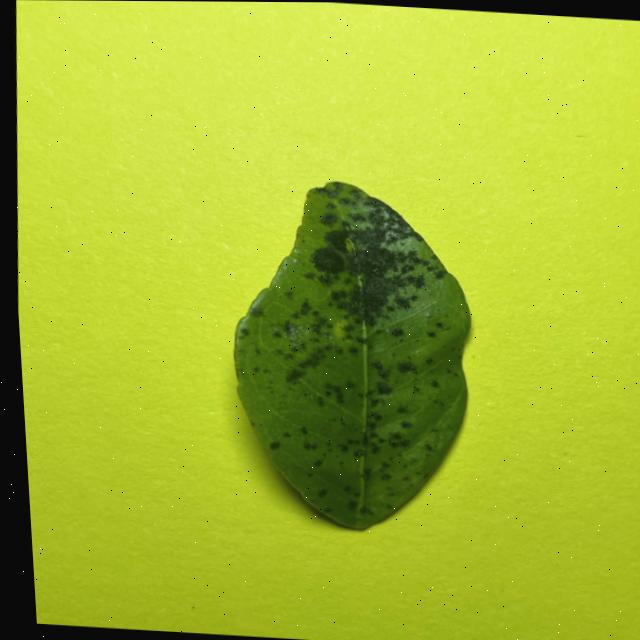sooty_mold: (235, 182, 470, 509)
